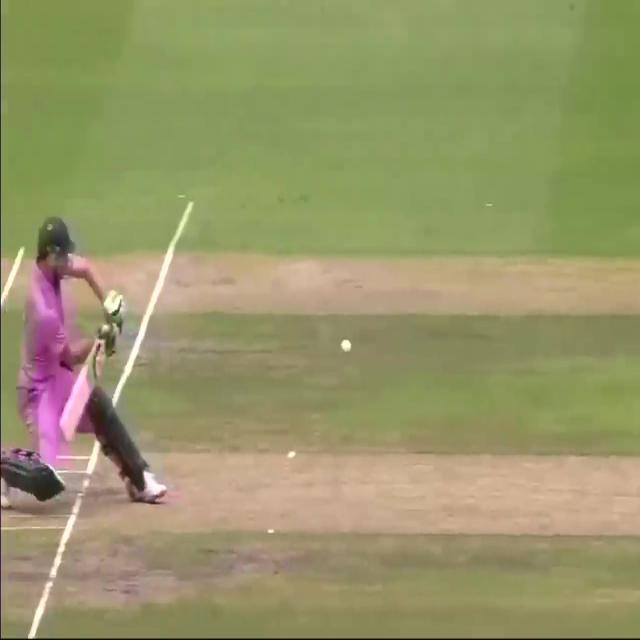Ball: (0, 207, 164, 637)
